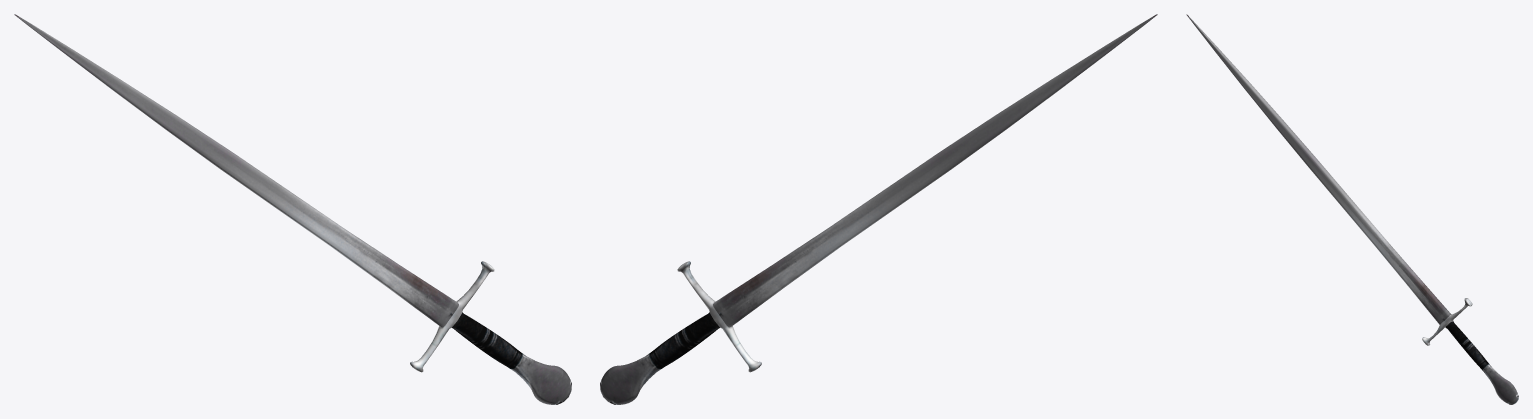
File: sward.glb
The picture shows the model from 3 angles, left to right: view 1: azimuth 30°, elevation 25°; view 2: azimuth 150°, elevation 25°; view 3: azimuth 330°, elevation 25°; orthographic projection. The views are drawn at different scales.
Visible parts, largest first — view 1: Box002; view 2: Box002; view 3: Box002.
Part boxes in pixels (x1=…): Box002: x1=14, y1=14, x2=571, y2=404; Box002: x1=600, y1=14, x2=1157, y2=404; Box002: x1=1186, y1=14, x2=1518, y2=404.
Bounding box in the file's own units: 87.29 × 78.25 × 1.58.
1 material, 1 textured.
